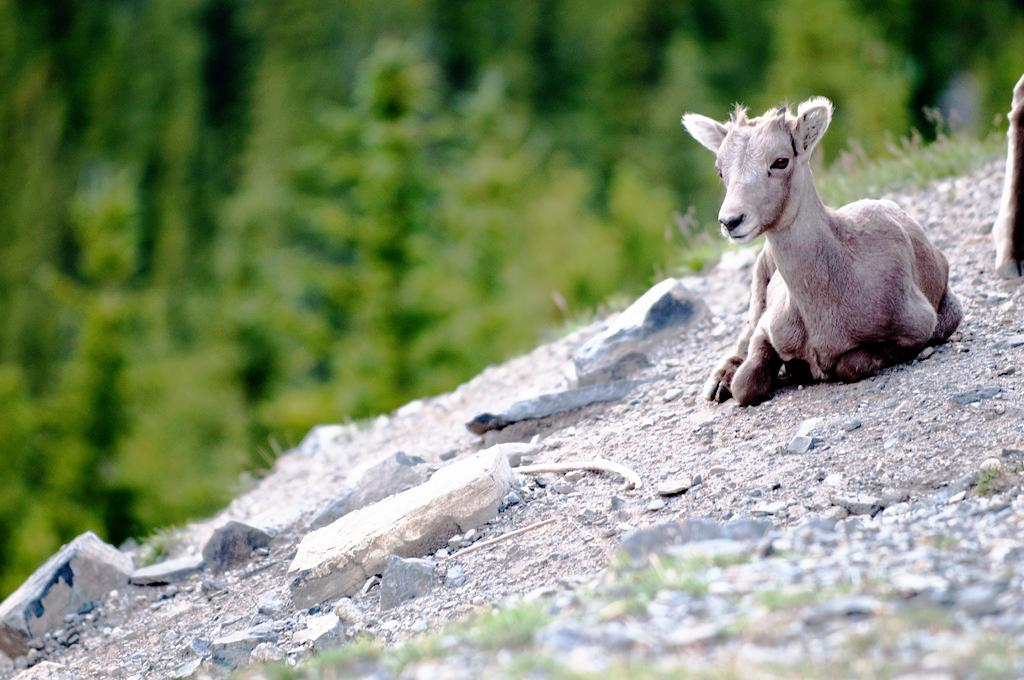Sheep: (676, 94, 967, 412)
